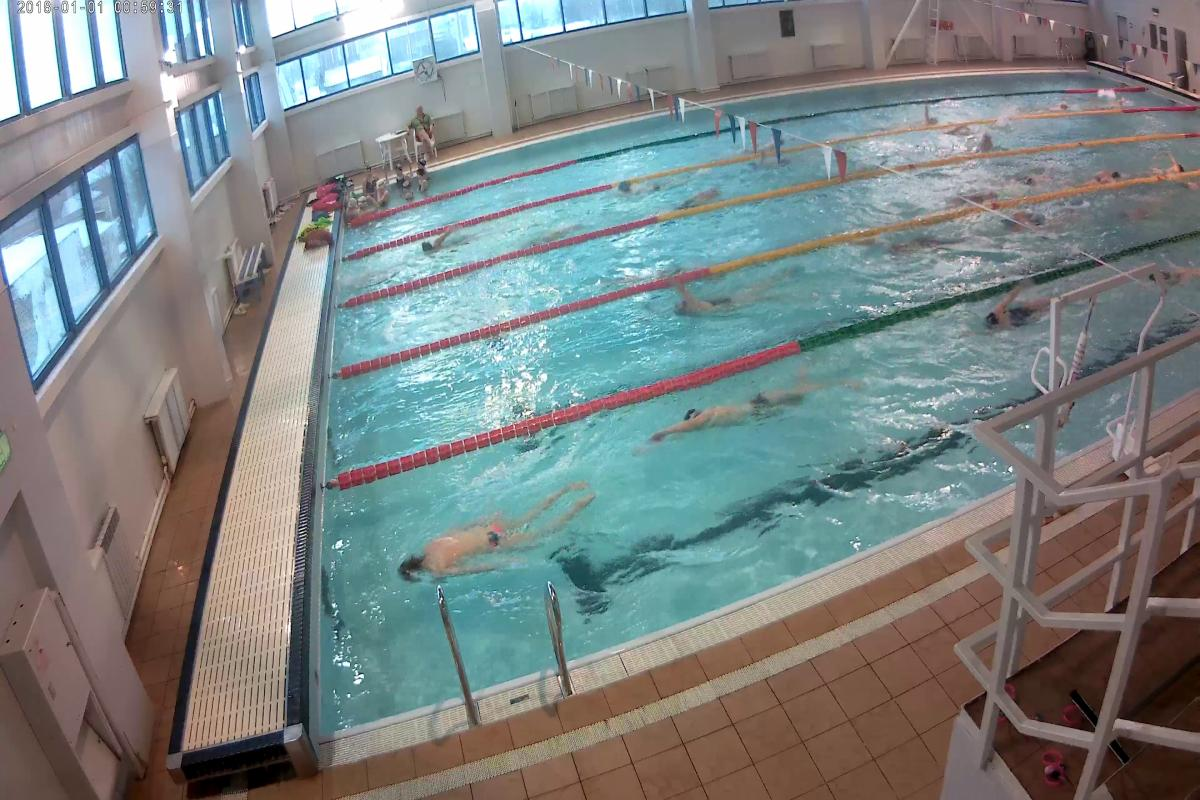swimmer: (413, 478, 601, 568), (660, 389, 844, 439), (968, 285, 1063, 335), (663, 280, 782, 312), (883, 235, 968, 272), (995, 209, 1077, 242), (407, 238, 483, 259), (613, 176, 691, 190), (1150, 264, 1200, 283), (678, 191, 725, 210), (1008, 164, 1052, 183), (1092, 162, 1124, 185)
